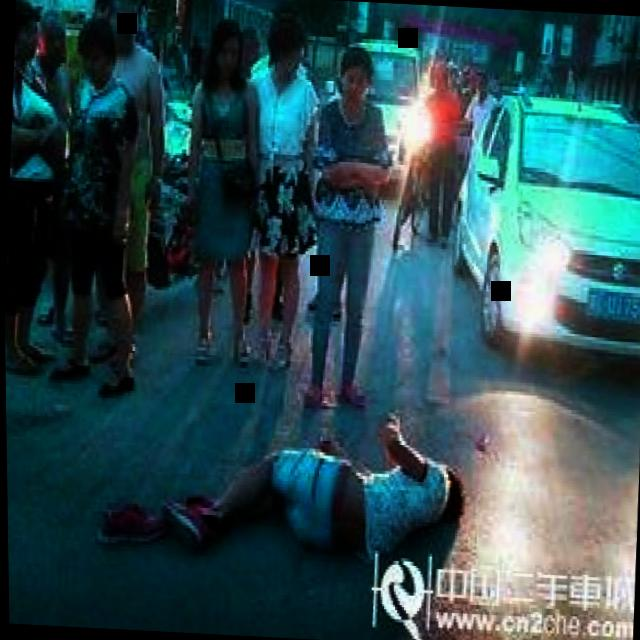Fall-Detected: (140, 376, 474, 584)
